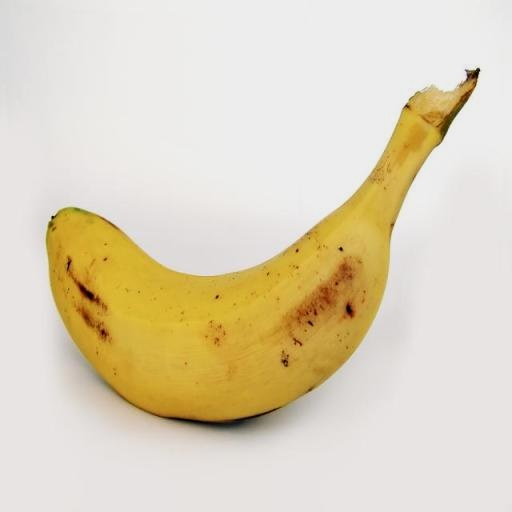fruit: (46, 70, 478, 421)
